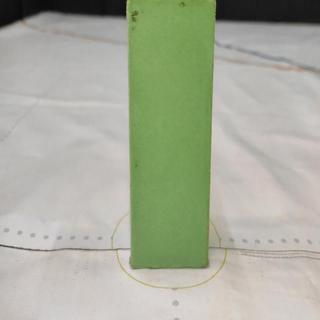greenbox: (125, 1, 216, 272)
